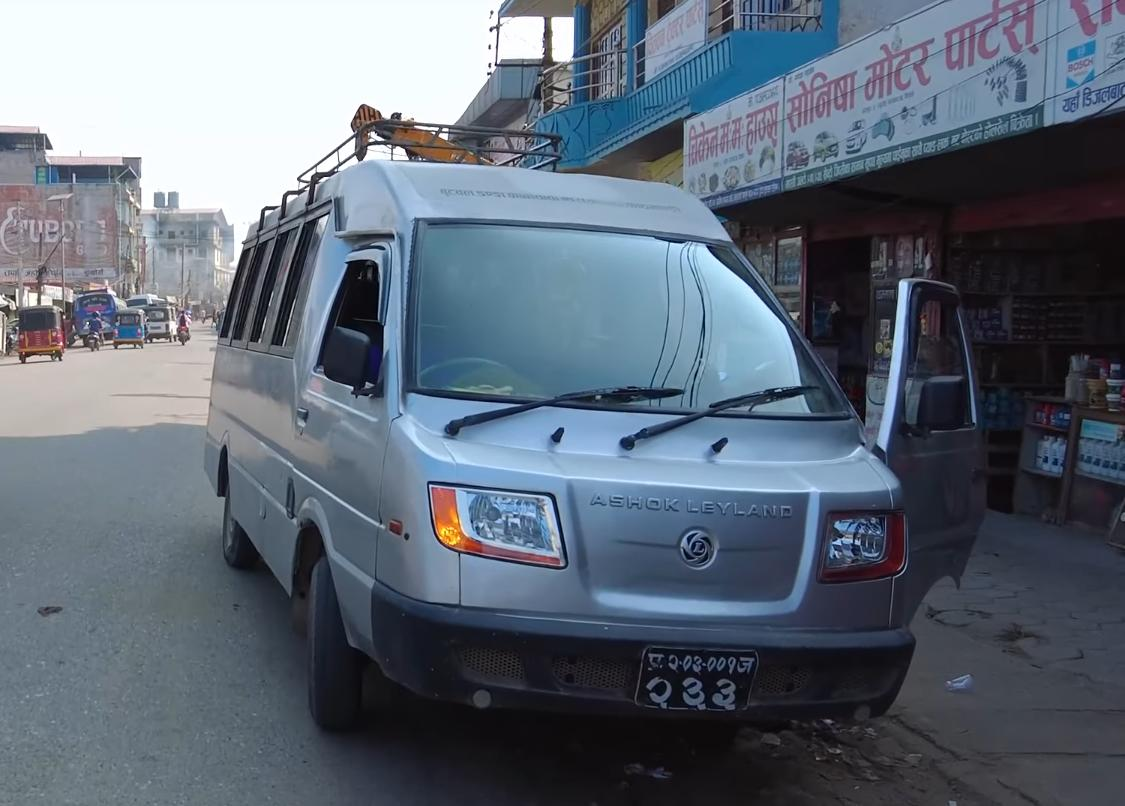auto_rickshaw: (15, 303, 72, 366), (109, 309, 149, 351)
micro_bus: (201, 147, 945, 768)
